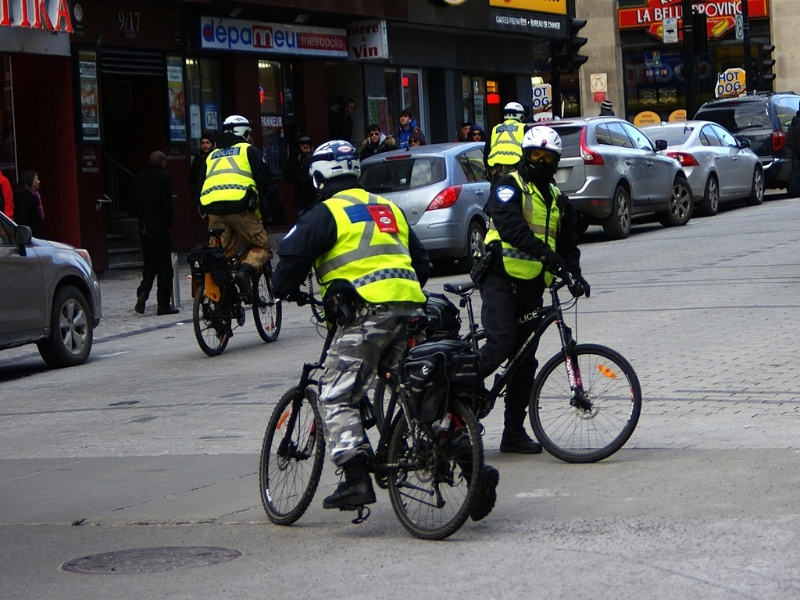helmet: (311, 139, 362, 185), (525, 124, 563, 149), (223, 116, 251, 132), (507, 102, 522, 110)
jacket: (328, 194, 422, 312), (504, 173, 562, 277), (202, 144, 249, 207), (489, 120, 522, 166)
